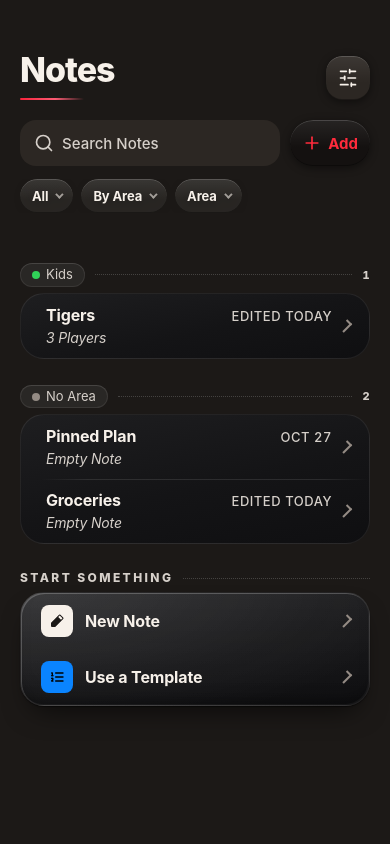
Test: Notes home order › a search hides the start rows so the results stand alone
In the search field with placeholder "Search Notes": (164, 143) [62,134,266,153], type "ava"
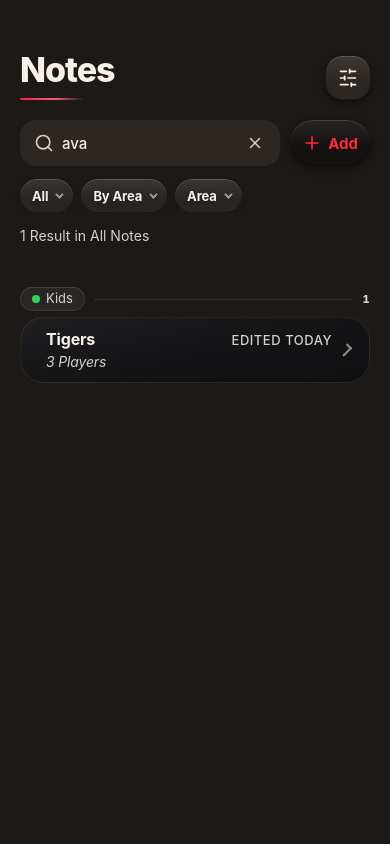
Expected: the text "Tigers" is shown, [46,329,95,349]
Result: the text "Start Something" is gone
